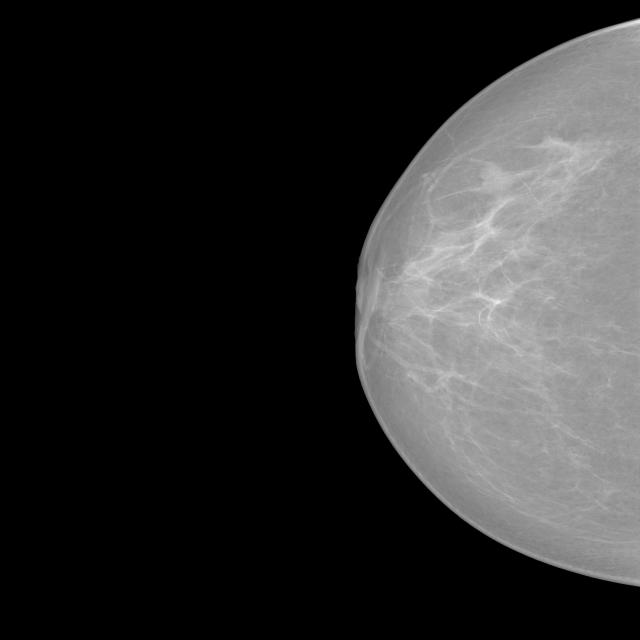Mass_1: (453, 146, 539, 208)
